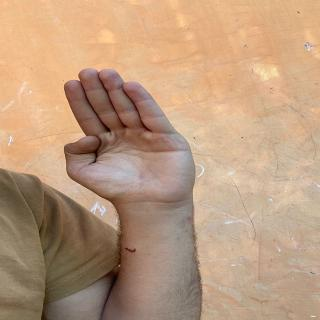SEEN: (55, 61, 203, 208)
